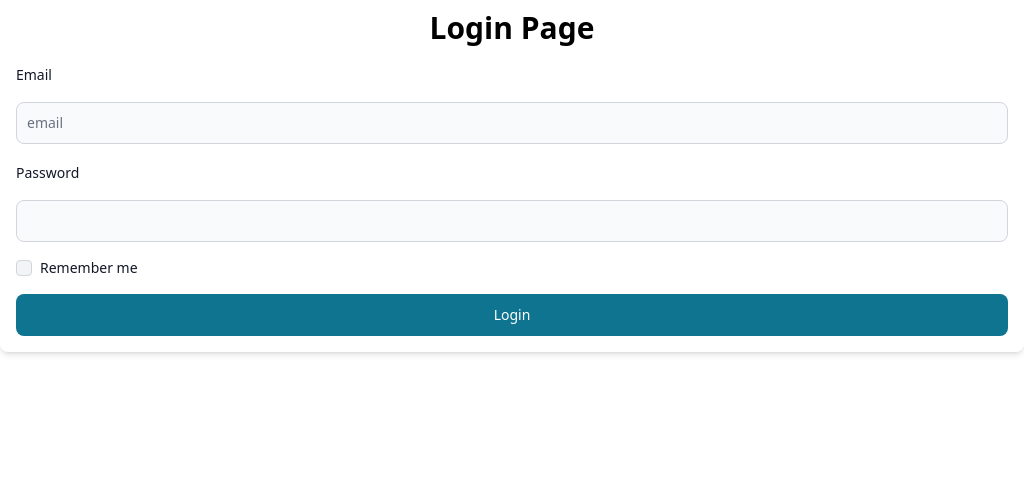
Test: Login form validations › should display an alert if the email and password are invalid
The width and height of the screenshot is (1024, 493).
Expected: the text "The email format is not valid" is not shown
Type "dave" into the field with placeholder "Email".
click(512, 123); type("dave")  # box [16,102,1008,144]
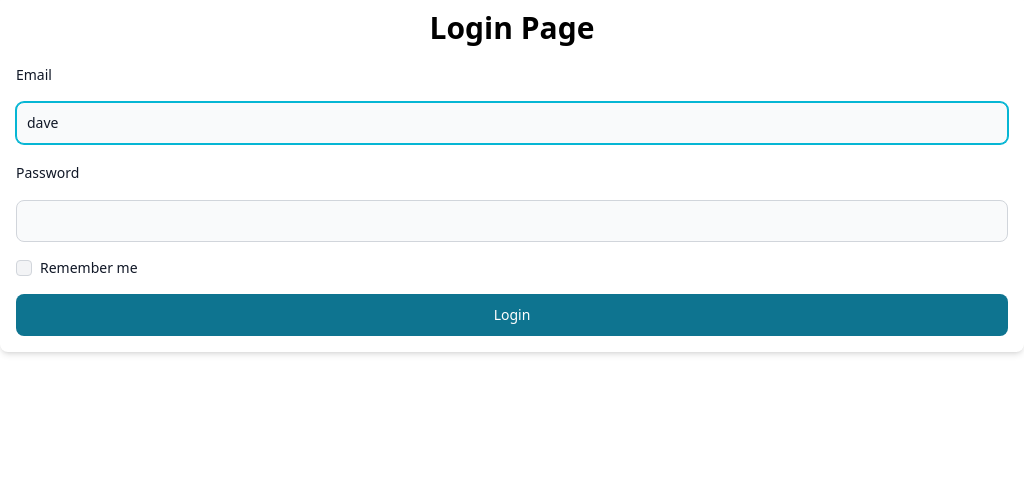
Type "123456" into the password field labelled "Password".
click(512, 221); type("123456")  # box [16,200,1008,242]
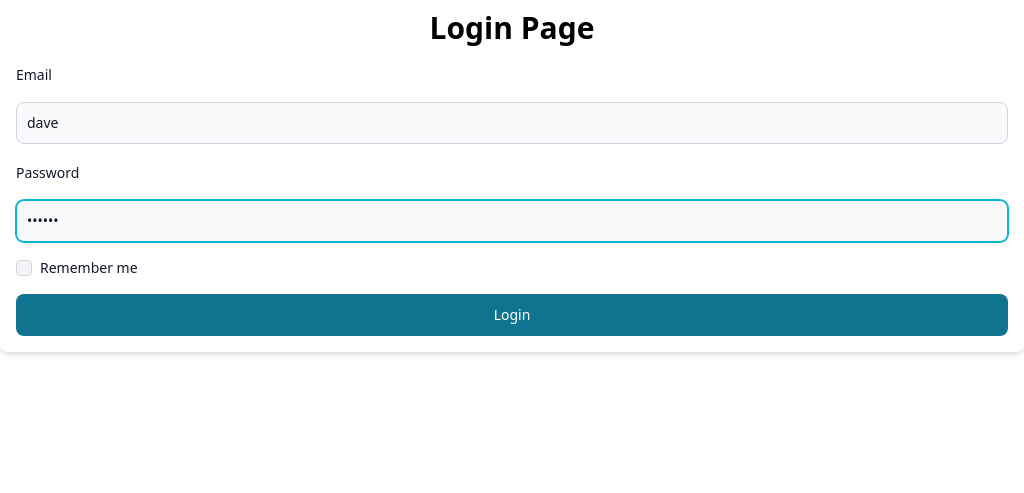
Click the button "Login".
click(512, 315)  # box [16,294,1008,336]
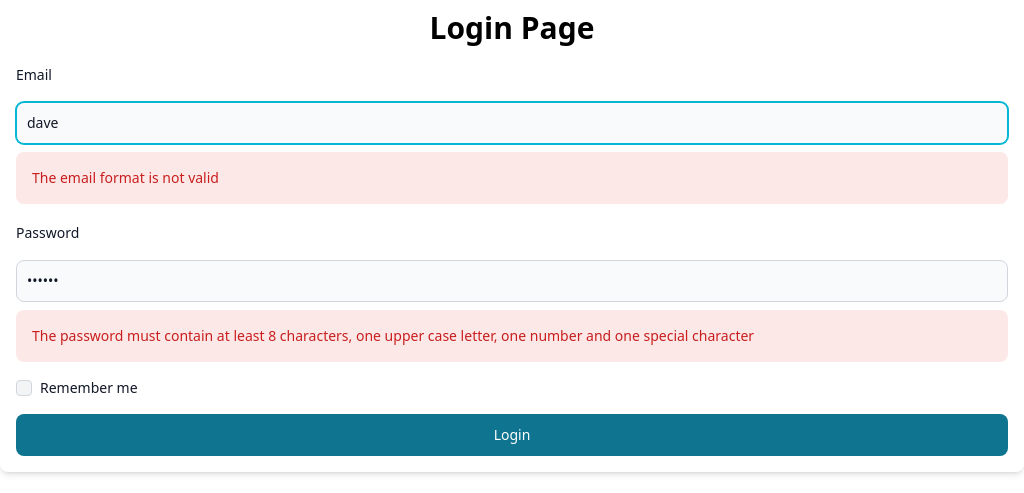
Expected: the text "The email format is not valid" is shown, [32,168,219,187]
Expected: the text "The password must contain at least 8 characters, one upper case letter, one number and one special character" is shown, [32,326,754,345]
